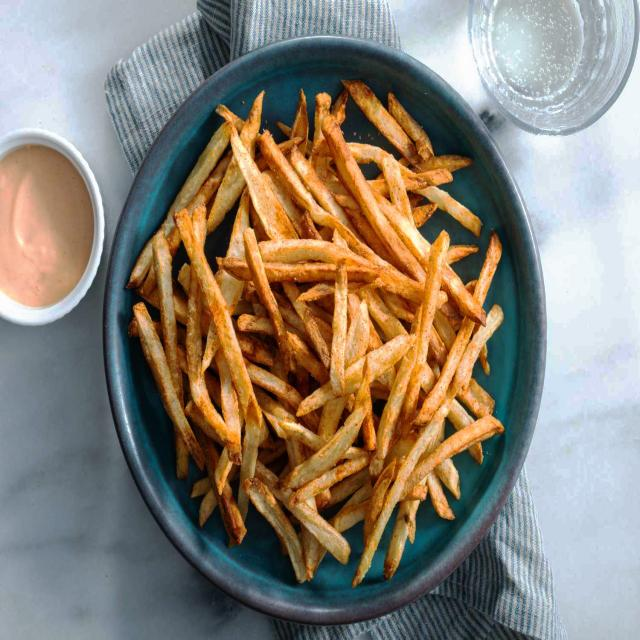drink: (469, 1, 633, 130)
french fries: (128, 84, 503, 584)
